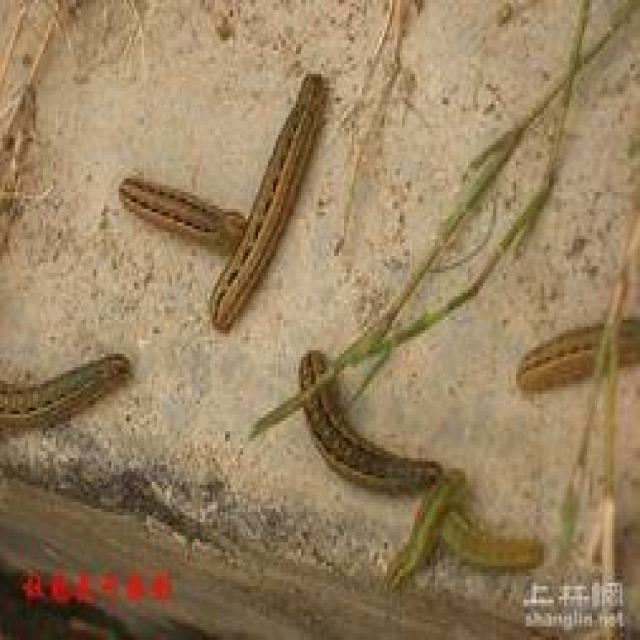army worm: (210, 59, 329, 335), (286, 341, 450, 496), (110, 165, 241, 249), (427, 495, 546, 579), (382, 459, 455, 587), (511, 318, 635, 385)
